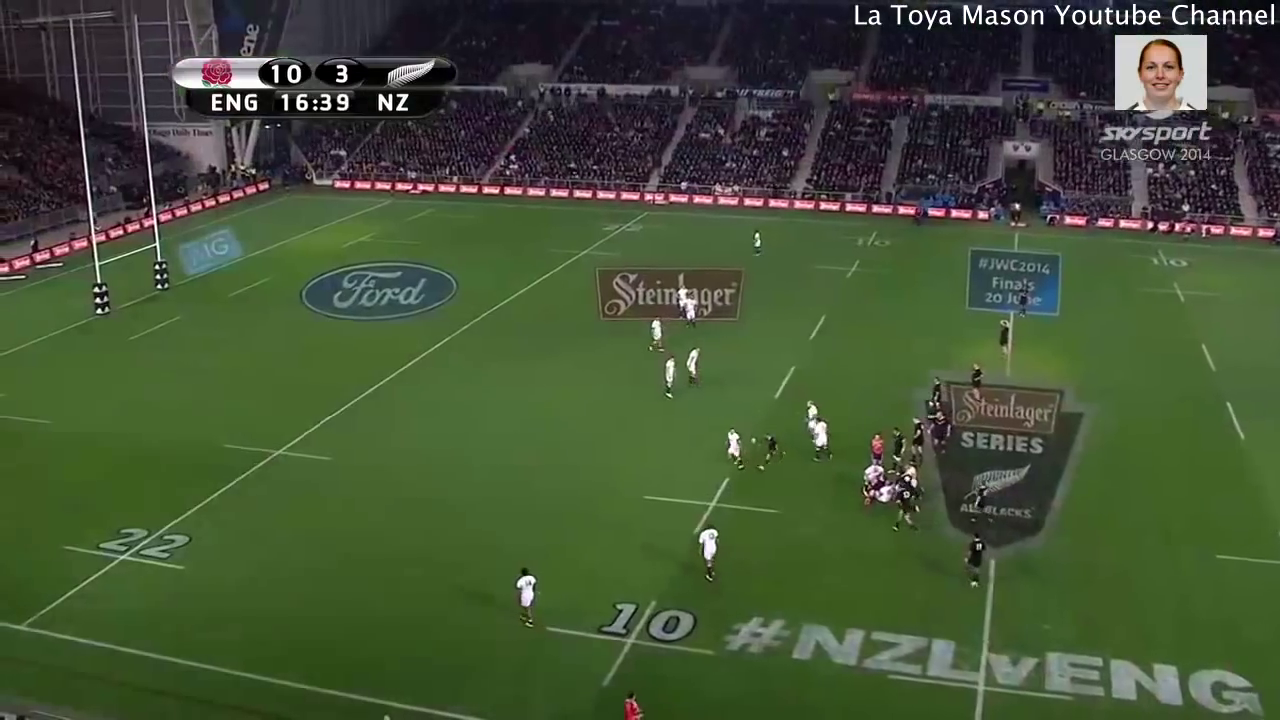10_metre: (543, 593, 720, 688), (637, 473, 784, 538), (1126, 246, 1211, 273), (1138, 278, 1222, 305), (814, 256, 898, 281), (838, 230, 905, 248)
ball: (748, 435, 759, 447)
player: (505, 563, 549, 636), (888, 483, 924, 537), (694, 521, 724, 585), (926, 410, 954, 458), (810, 416, 836, 467), (962, 531, 983, 594), (756, 431, 787, 473), (968, 478, 995, 524), (722, 427, 747, 474), (907, 415, 928, 468), (657, 353, 678, 402), (887, 426, 906, 478), (683, 344, 704, 390), (995, 319, 1016, 361), (967, 361, 985, 408), (925, 374, 945, 414), (859, 465, 886, 494), (648, 314, 666, 357), (867, 431, 886, 469), (682, 293, 700, 332), (1014, 285, 1031, 324), (804, 396, 818, 438), (749, 228, 765, 258), (675, 284, 685, 317)
post: (66, 96, 171, 315)
ruck: (861, 461, 928, 510)
